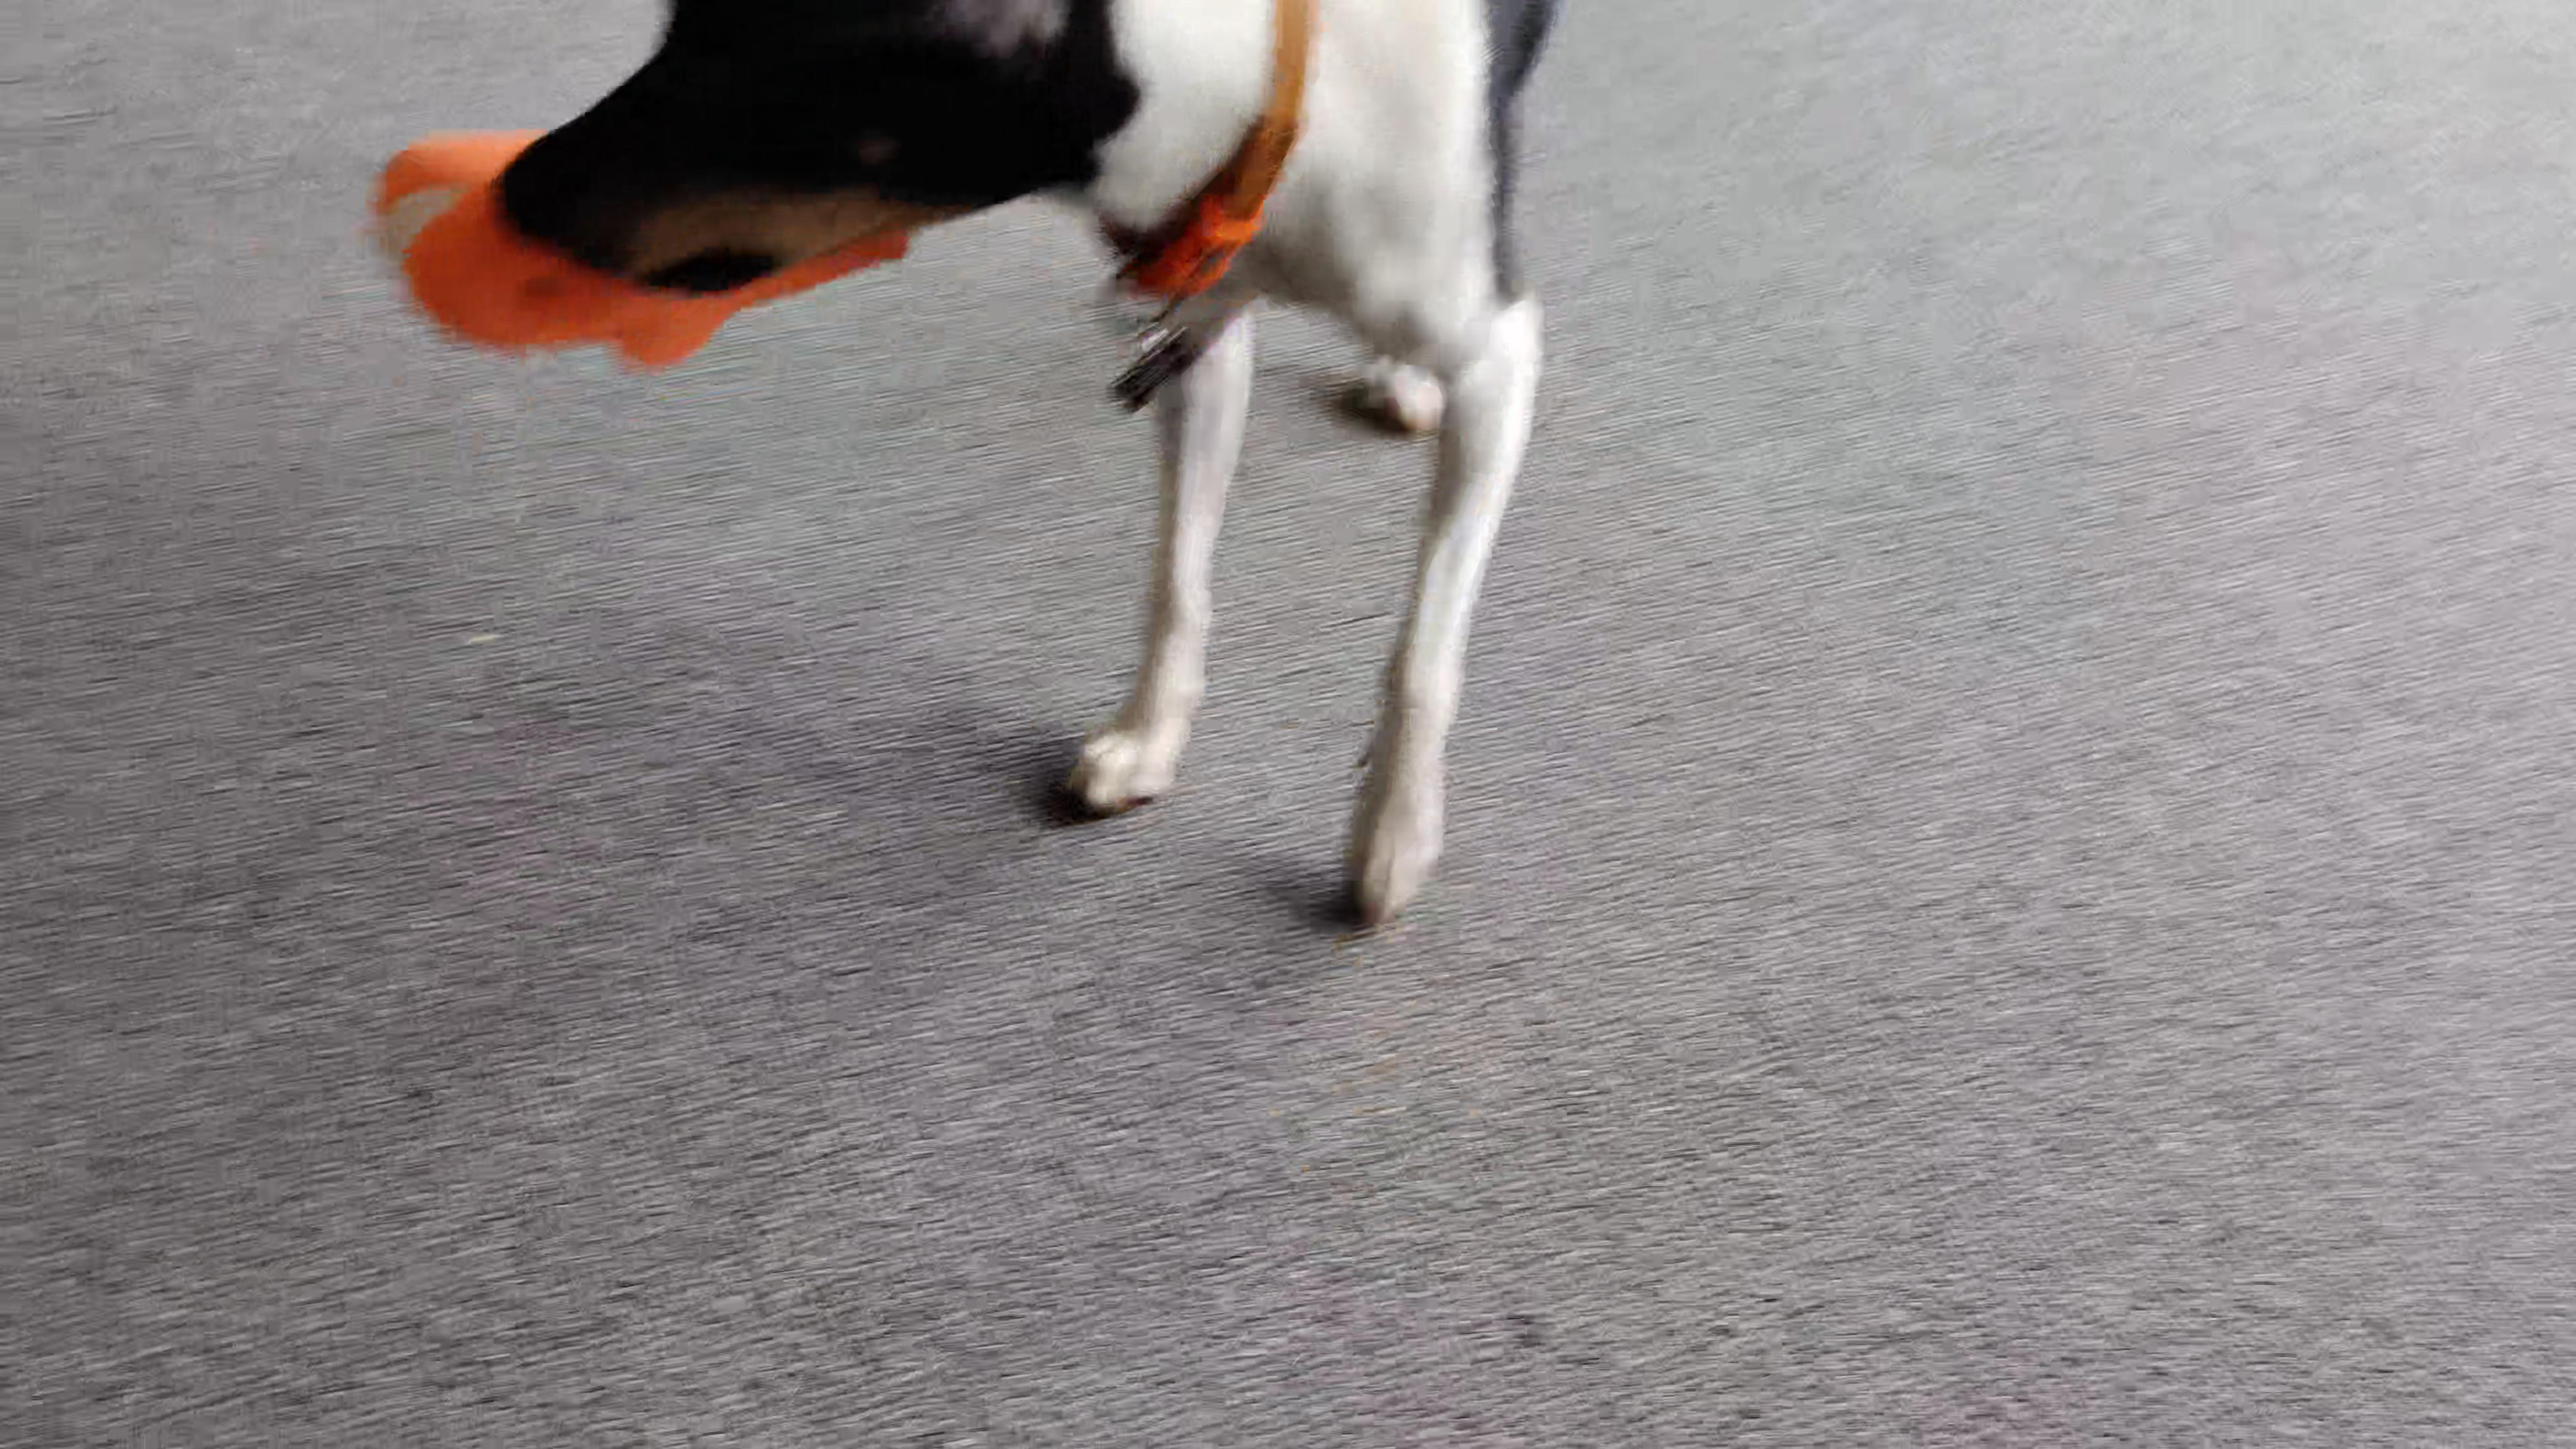Dog: (474, 0, 1592, 966)
